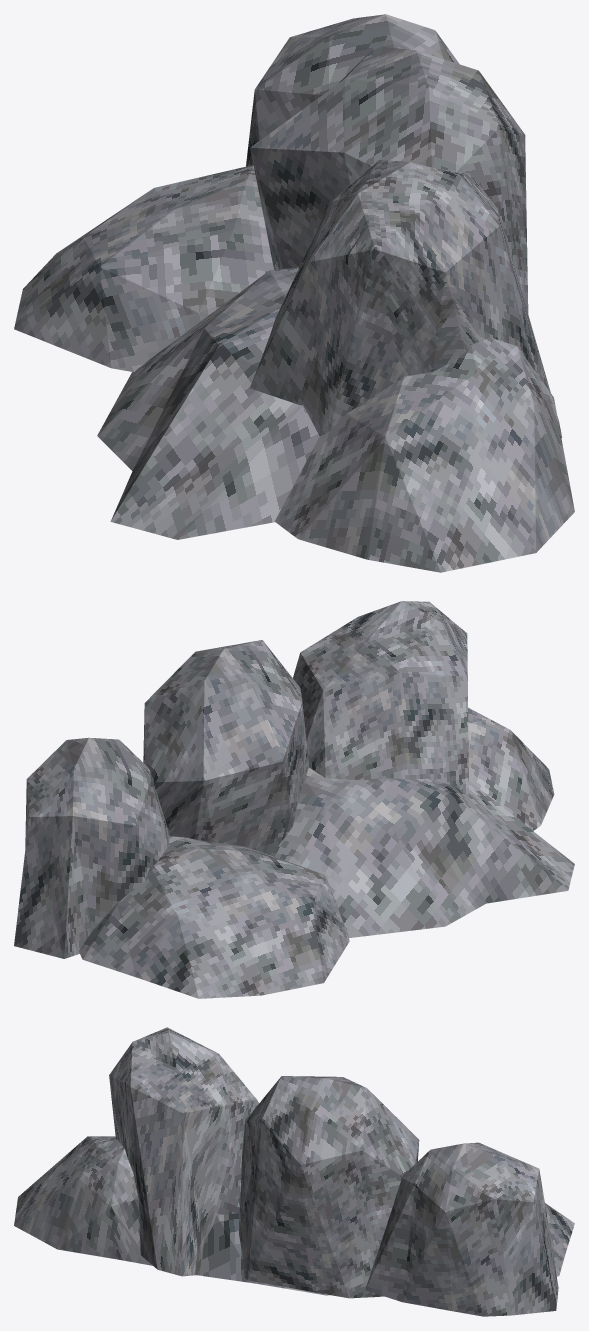
The model's file is lod_rockgp2_09.obj.
The picture shows the model from 3 angles, top to bottom: view 1: azimuth 30°, elevation 25°; view 2: azimuth 150°, elevation 25°; view 3: azimuth 270°, elevation 25°; orthographic projection. The views are drawn at different scales.
Parts seen in each view (by area): view 1: lod_rockgp2_09; view 2: lod_rockgp2_09; view 3: lod_rockgp2_09.
Part boxes in pixels (x1,y1,x2,y2): lod_rockgp2_09: (14,14,574,572); lod_rockgp2_09: (14,601,574,998); lod_rockgp2_09: (14,1027,574,1316).
Bounding box in the file's own units: 40.65 × 22.93 × 56.99.
2 materials, 2 textured.
